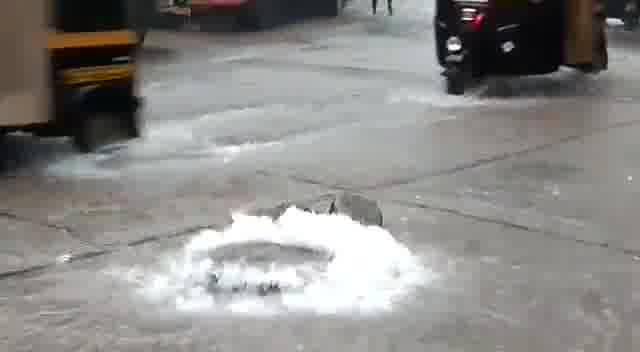drainage overflow-repair-: (113, 191, 449, 337)
